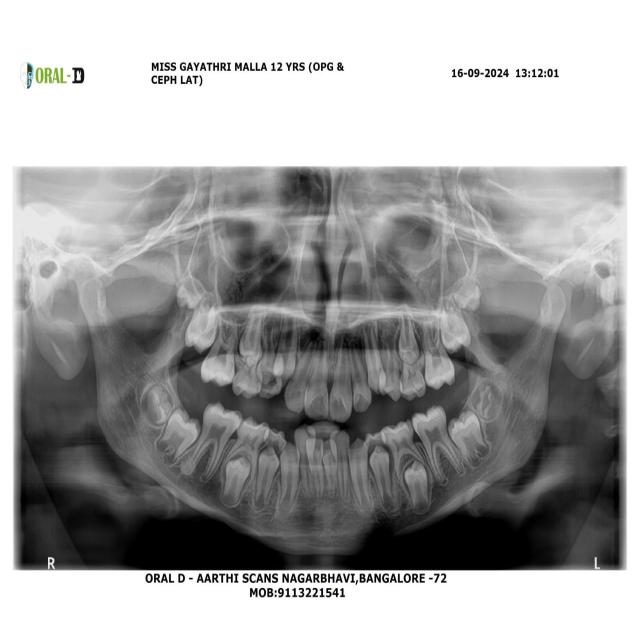Premolars: (361, 430, 398, 466)
